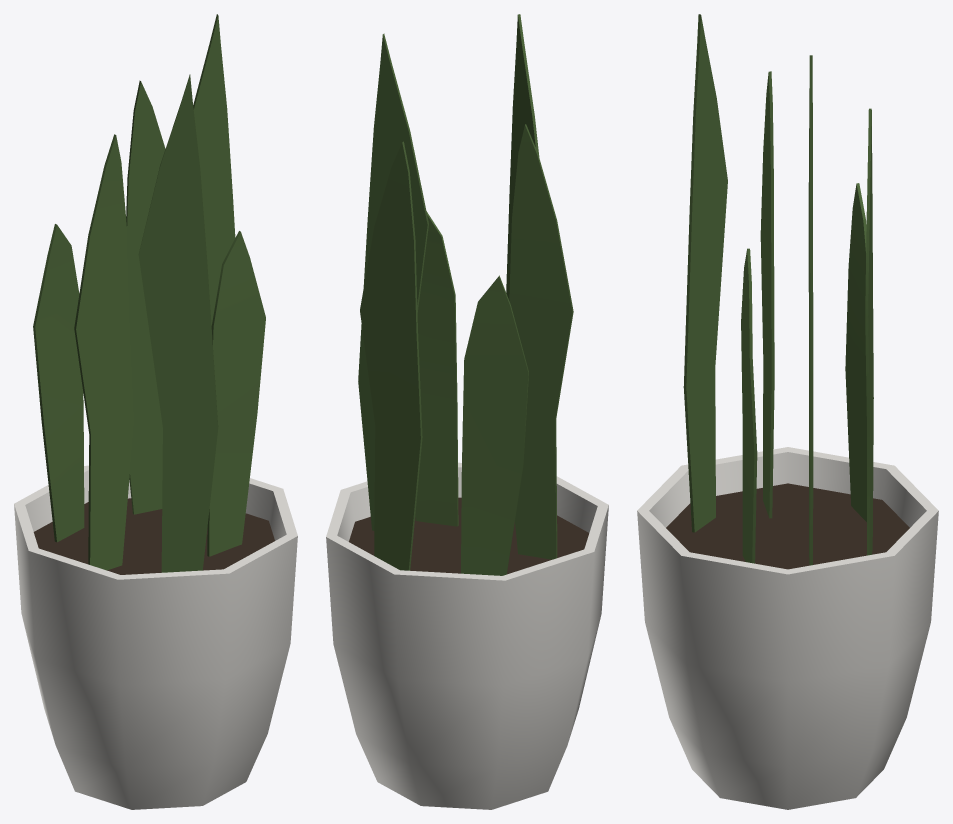
File: pk_plant_snake.glb
3 renders of one model, left to right at view 1: azimuth 30°, elevation 25°; view 2: azimuth 150°, elevation 25°; view 3: azimuth 270°, elevation 25°, orthographic. The views are drawn at different scales.
Visible parts, largest first — view 1: pk_plant_snake; view 2: pk_plant_snake; view 3: pk_plant_snake.
Part boxes in pixels (x1=…): pk_plant_snake: x1=14, y1=14, x2=297, y2=809; pk_plant_snake: x1=326, y1=14, x2=608, y2=809; pk_plant_snake: x1=637, y1=14, x2=938, y2=809.
Size of the model in its own units: 0.3279 by 0.9 by 0.3279.
1 material, 1 textured.
